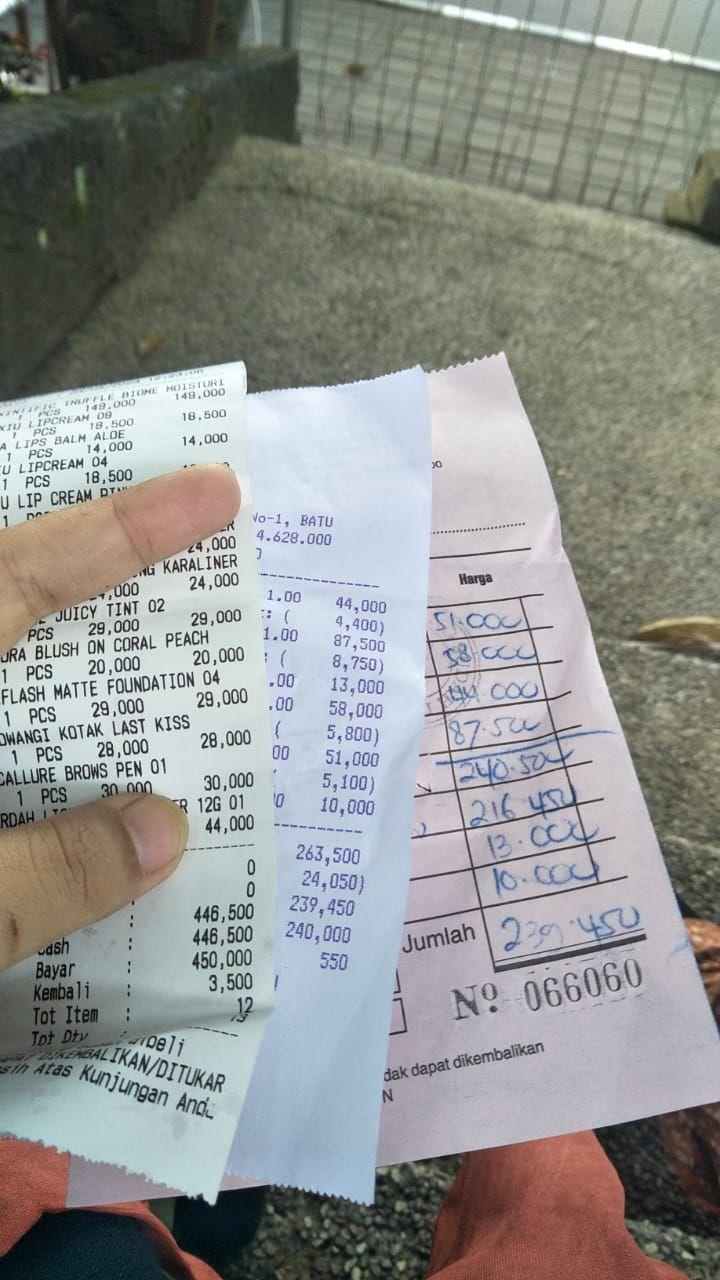receipt-in-hand: (378, 357, 719, 1163), (0, 364, 273, 1196)
